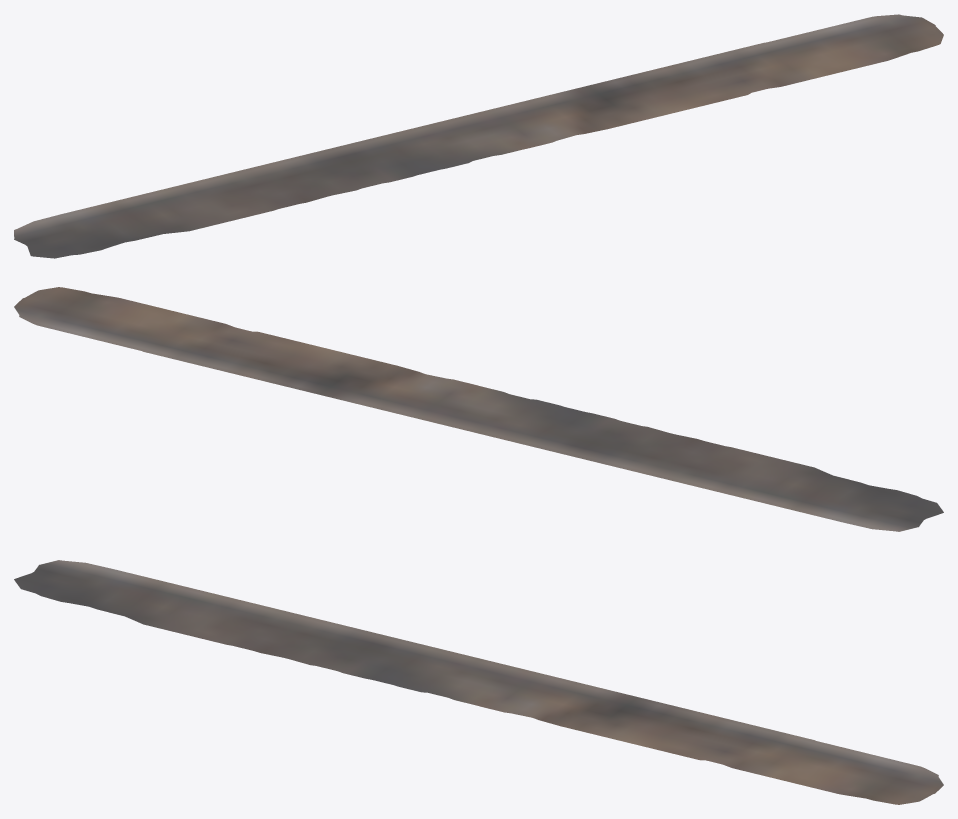
The model's file is puddle.fbx.
3 renders of one model, top to bottom at view 1: azimuth 30°, elevation 25°; view 2: azimuth 150°, elevation 25°; view 3: azimuth 330°, elevation 25°, orthographic.
Parts seen in each view (by area): view 1: Cube.012; view 2: Cube.012; view 3: Cube.012.
Boxes of the visible parts, x1,y1,x2,y2 form: Cube.012: (14, 14, 943, 258); Cube.012: (14, 287, 943, 531); Cube.012: (14, 560, 943, 804).
Bounding box in the file's own units: 2585 × 3.95e-05 × 242.
Materials: 1 (1 with a texture image).
